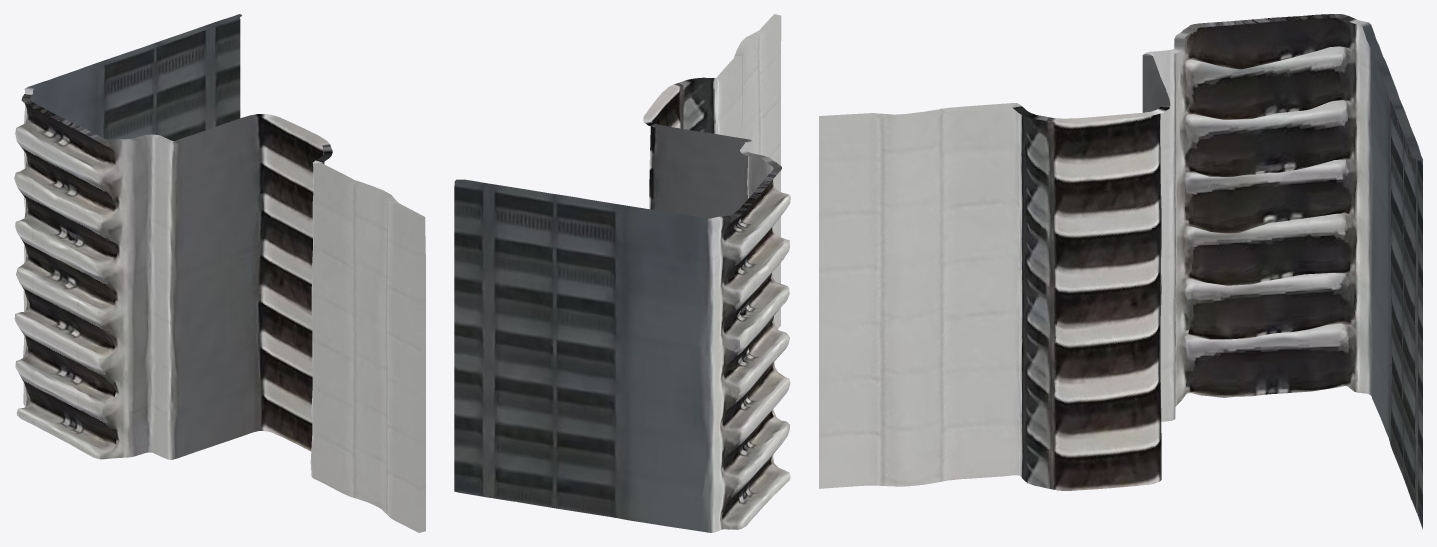
Rendered from z20-167783-405226-h1-yup-uvflip-v3-world.glb.
The picture shows the model from 3 angles, left to right: view 1: azimuth 30°, elevation 25°; view 2: azimuth 150°, elevation 25°; view 3: azimuth 270°, elevation 25°; orthographic projection. The views are drawn at different scales.
Size of the model in its own units: 17.88 by 20.64 by 30.32.
Materials: 1 (1 with a texture image).
